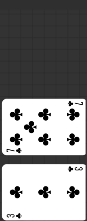7C: (5, 147, 23, 155)
